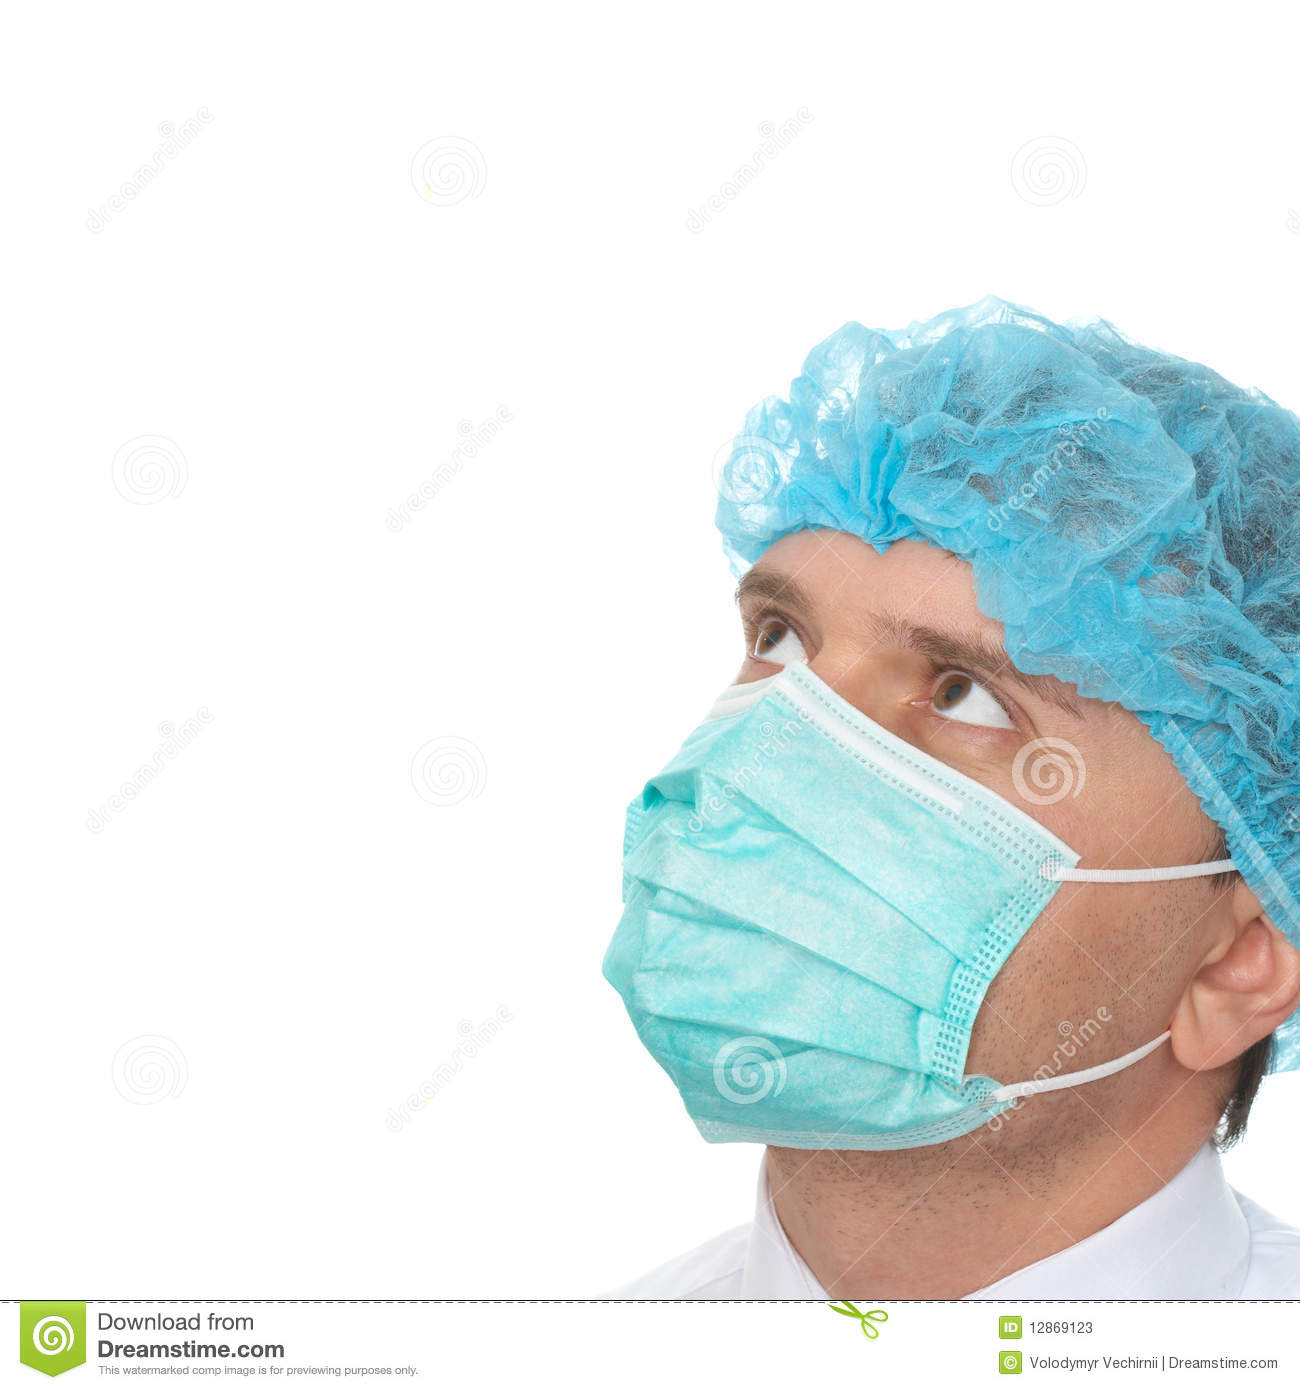mask: (626, 668, 1069, 1179)
